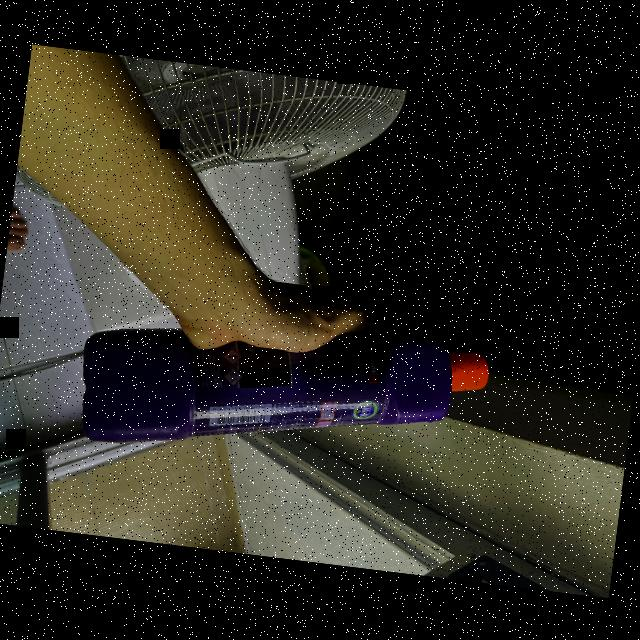toilet_cleaner: (72, 288, 496, 488)
